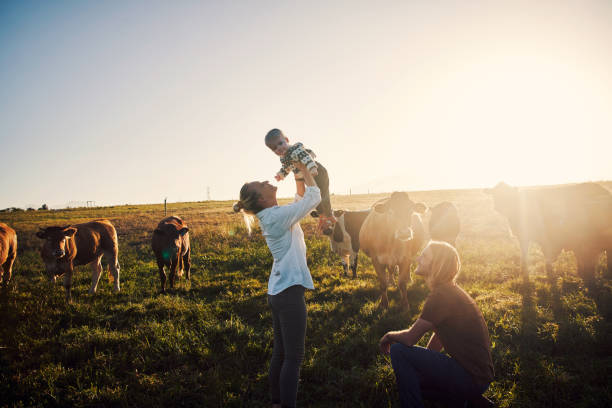without mask: (412, 239, 448, 279), (234, 179, 280, 208), (265, 134, 291, 158)
